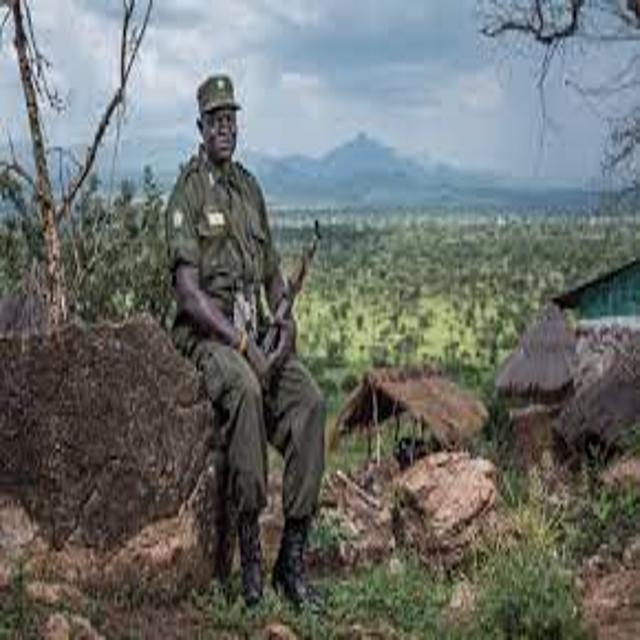gun: (220, 205, 361, 414)
ranger: (117, 43, 379, 626)
